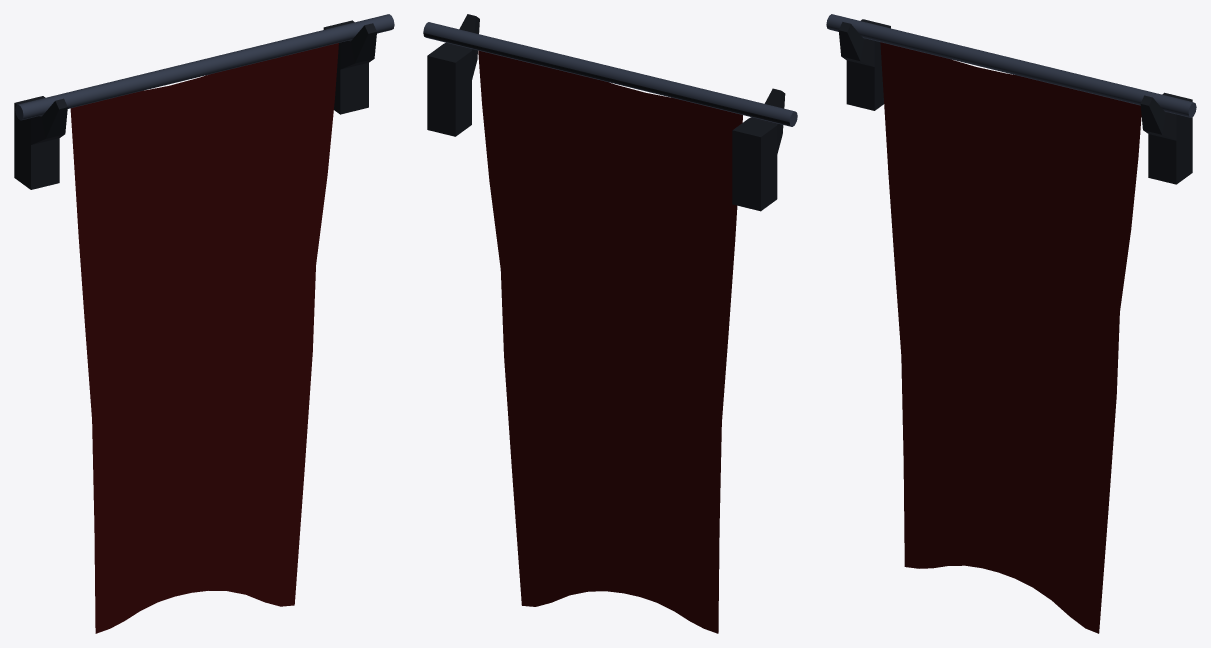
Rendered from Flag_Banquet_Geo.fbx.
3 renders of one model, left to right at view 1: azimuth 30°, elevation 25°; view 2: azimuth 150°, elevation 25°; view 3: azimuth 330°, elevation 25°, orthographic. The views are drawn at different scales.
Parts seen in each view (by area): view 1: flag; view 2: flag; view 3: flag.
Boxes of the visible parts, x1,y1,x2,y2 form: flag: (14,14,394,633); flag: (423,14,797,633); flag: (826,14,1196,633).
Bounding box in the file's own units: 556 × 822 × 90.11.
